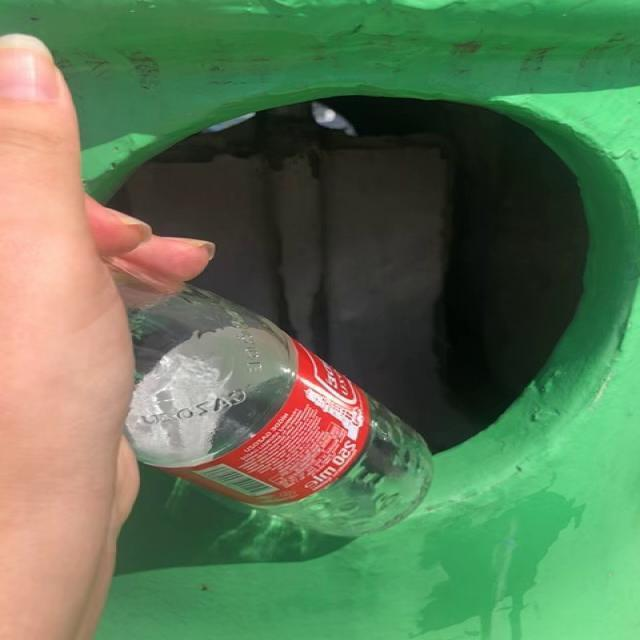Glass: (124, 287, 432, 538)
